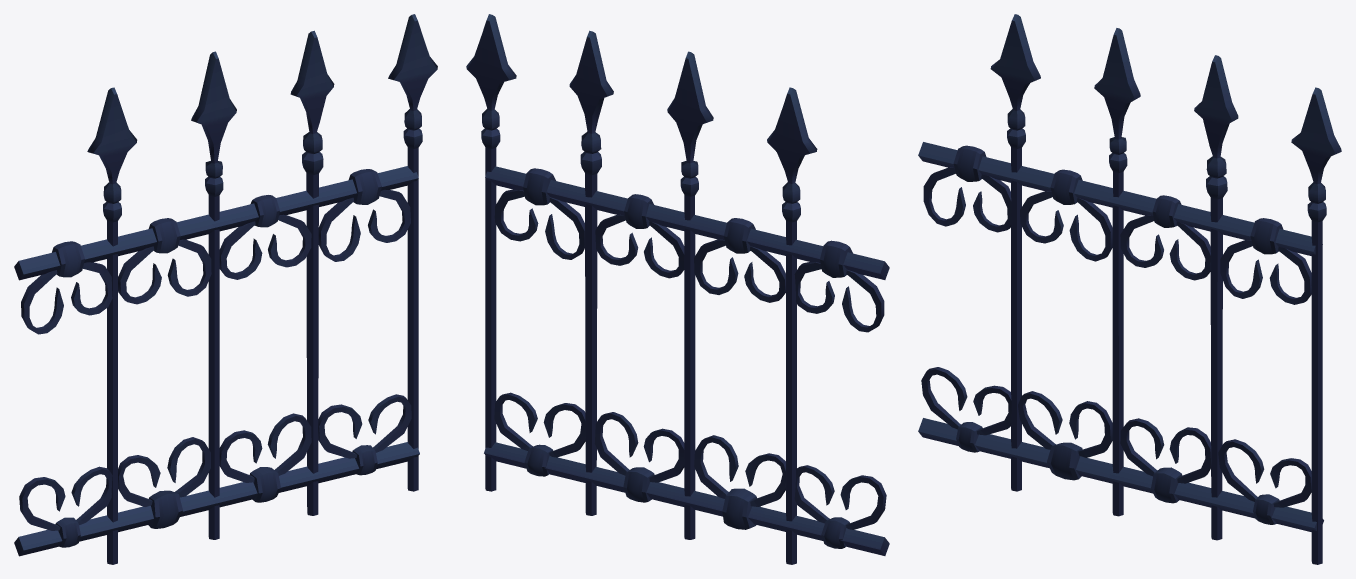
File: Iron_Fence_Full.fbx
The picture shows the model from 3 angles, left to right: view 1: azimuth 30°, elevation 25°; view 2: azimuth 150°, elevation 25°; view 3: azimuth 330°, elevation 25°; orthographic projection.
Parts seen in each view (by area): view 1: Iron_Fence_Full; view 2: Iron_Fence_Full; view 3: Iron_Fence_Full.
Boxes of the visible parts, box(x1,y1,x2,y2) form: Iron_Fence_Full: box(14, 14, 437, 564); Iron_Fence_Full: box(466, 14, 889, 564); Iron_Fence_Full: box(918, 14, 1341, 564).
Bounding box in the file's own units: 9.91 × 10.98 × 0.6003.
